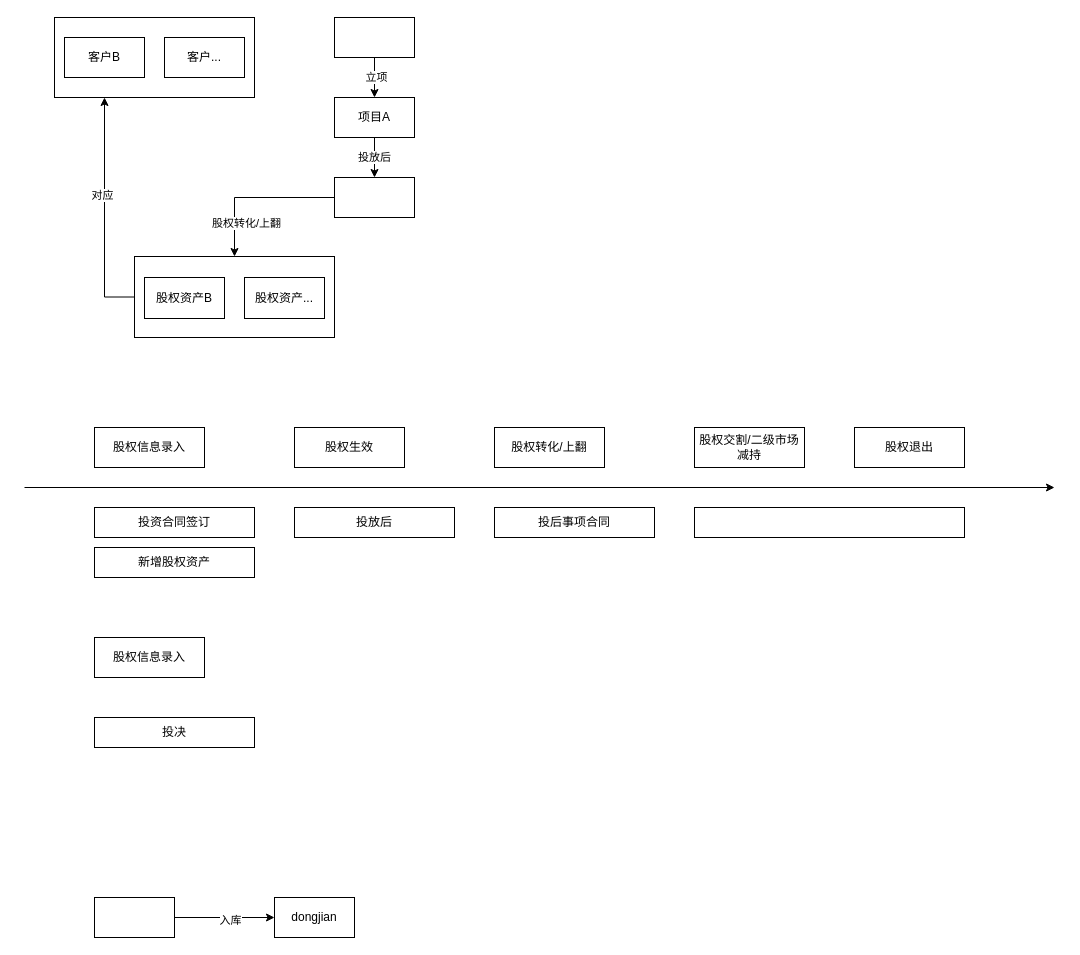
Some shapes in this 1080 by 955 pixel diagram are drawn without their labels. Here are the shapes that lost their labels. From the top down, the centre of each, then its label:
At point 374,37: "客户A".
At point 374,197: "股权资产A".
At point 829,522: "退出方案执行".
At point 134,917: "人员".
